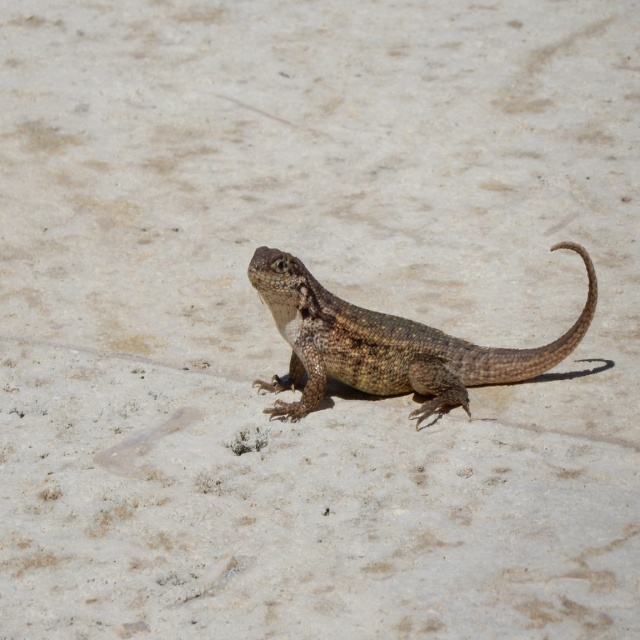Lizard: (246, 236, 599, 434)
